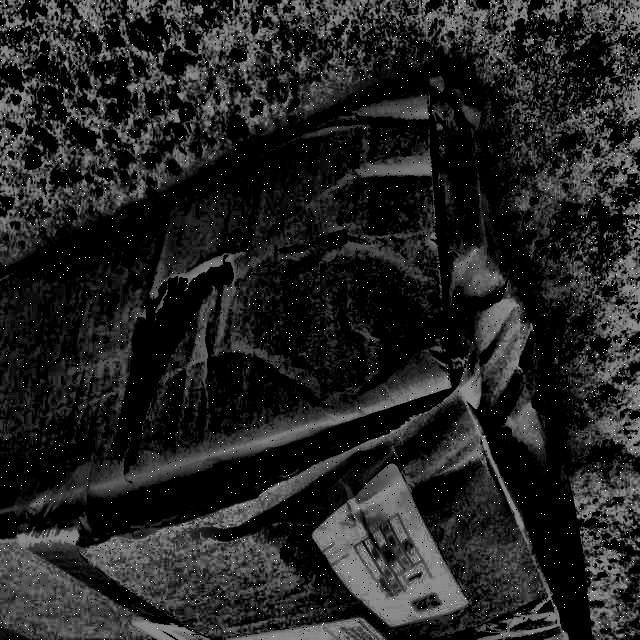box: (0, 49, 607, 640)
hole: (119, 248, 239, 470)
